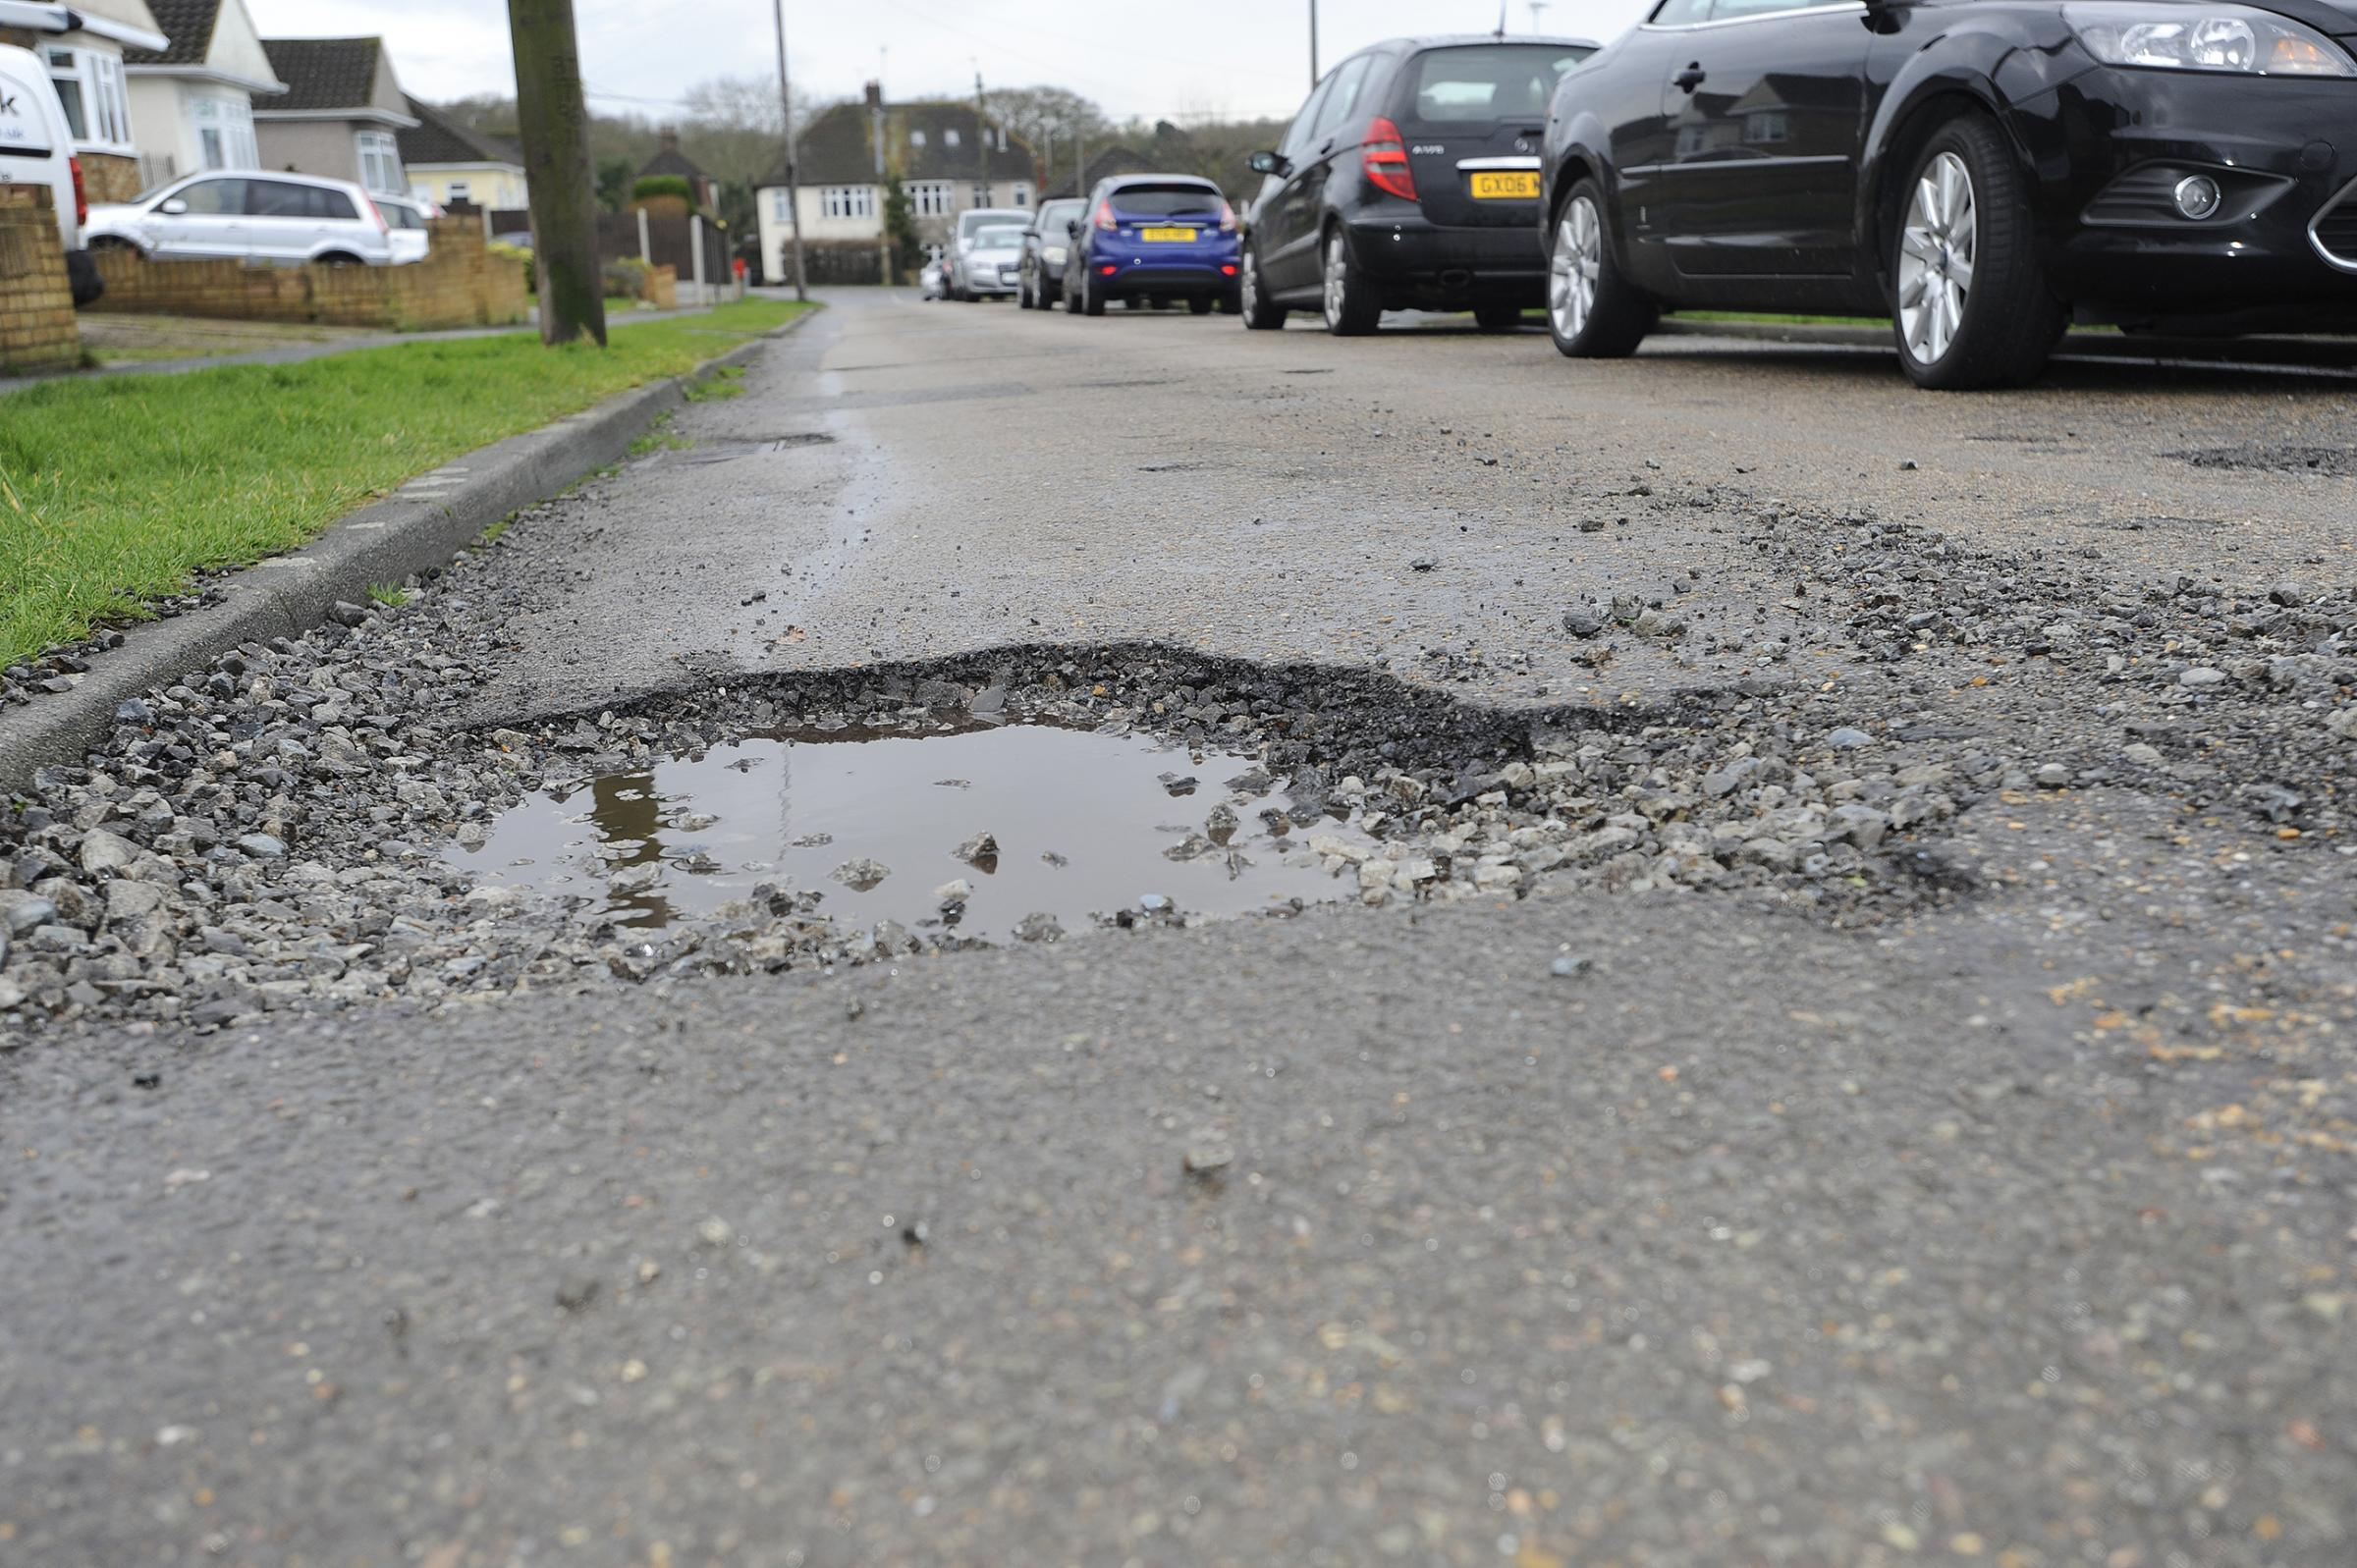pothole: (189, 572, 1638, 1043)
